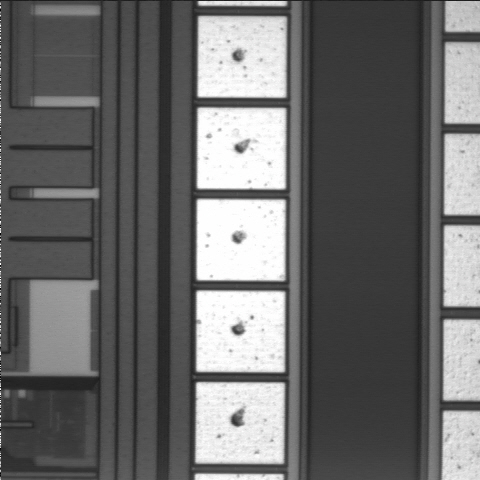pad: (196, 199, 286, 281), (196, 382, 285, 464), (198, 16, 286, 98), (197, 108, 286, 189), (196, 291, 285, 372)
